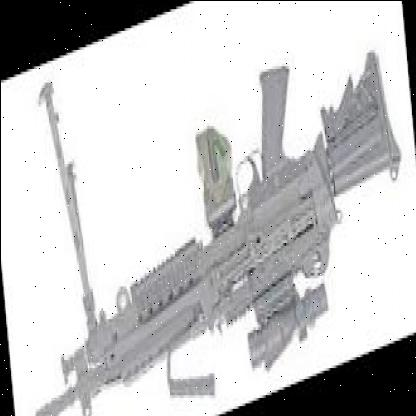rifle: (12, 8, 414, 416)
